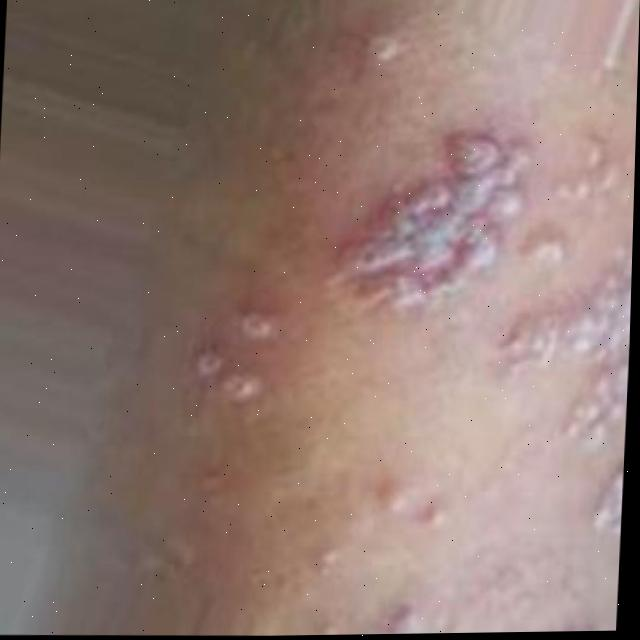Shingles: (320, 117, 636, 578), (200, 312, 266, 394), (359, 31, 399, 63)
